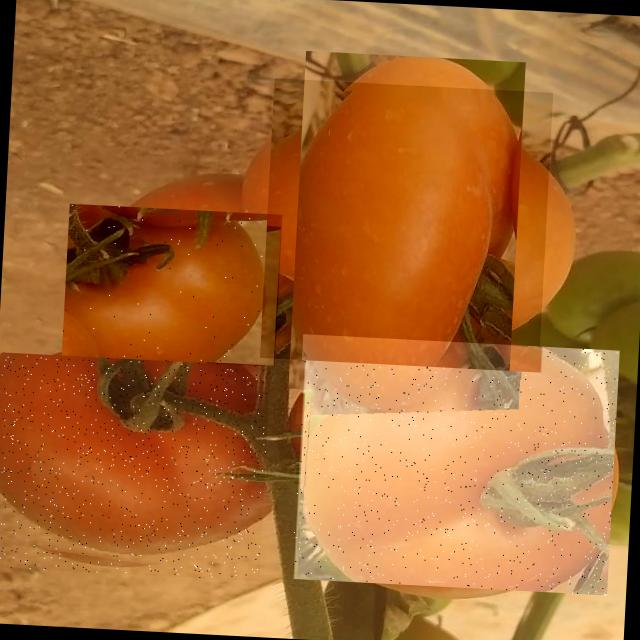Ripe Tomato: (291, 334, 619, 596), (260, 79, 553, 372), (0, 352, 270, 581), (61, 204, 282, 366)
